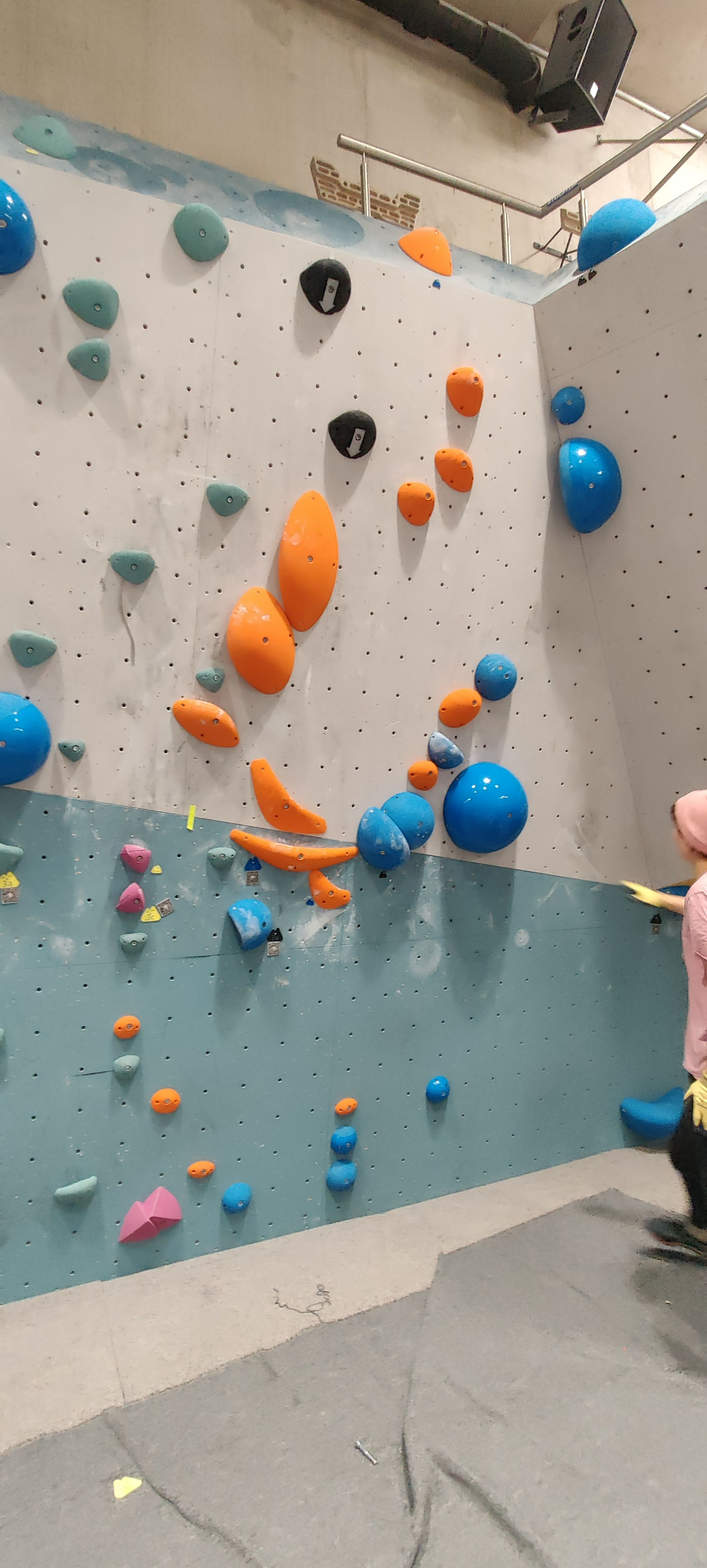hold: (278, 491, 338, 631), (444, 762, 528, 854), (227, 587, 295, 694), (559, 439, 622, 533), (251, 758, 327, 834), (577, 199, 656, 271), (230, 829, 358, 872), (0, 692, 51, 785), (119, 1187, 182, 1244), (0, 180, 36, 275), (619, 1088, 683, 1141), (172, 698, 239, 748), (173, 203, 229, 262), (357, 808, 410, 869), (382, 792, 434, 850), (299, 258, 351, 316), (63, 278, 119, 330), (398, 227, 452, 276), (328, 409, 376, 459), (229, 898, 272, 950), (475, 654, 517, 701), (447, 366, 484, 418), (67, 338, 110, 381), (8, 630, 56, 668), (308, 869, 351, 911), (439, 688, 481, 729), (435, 447, 473, 492), (398, 481, 434, 526), (110, 550, 155, 584), (207, 482, 249, 517), (428, 732, 463, 769), (551, 386, 585, 424), (54, 1176, 97, 1202), (408, 758, 438, 791), (121, 843, 151, 874), (116, 883, 145, 913), (328, 1161, 355, 1190), (0, 842, 23, 875), (196, 666, 225, 692), (222, 1183, 249, 1210), (114, 1014, 140, 1040), (113, 1055, 139, 1080), (151, 1088, 178, 1112), (58, 739, 86, 762), (330, 1129, 355, 1154), (207, 846, 235, 868), (112, 1477, 142, 1497), (426, 1075, 448, 1102), (119, 933, 146, 952), (188, 1161, 212, 1178), (335, 1098, 355, 1115)
